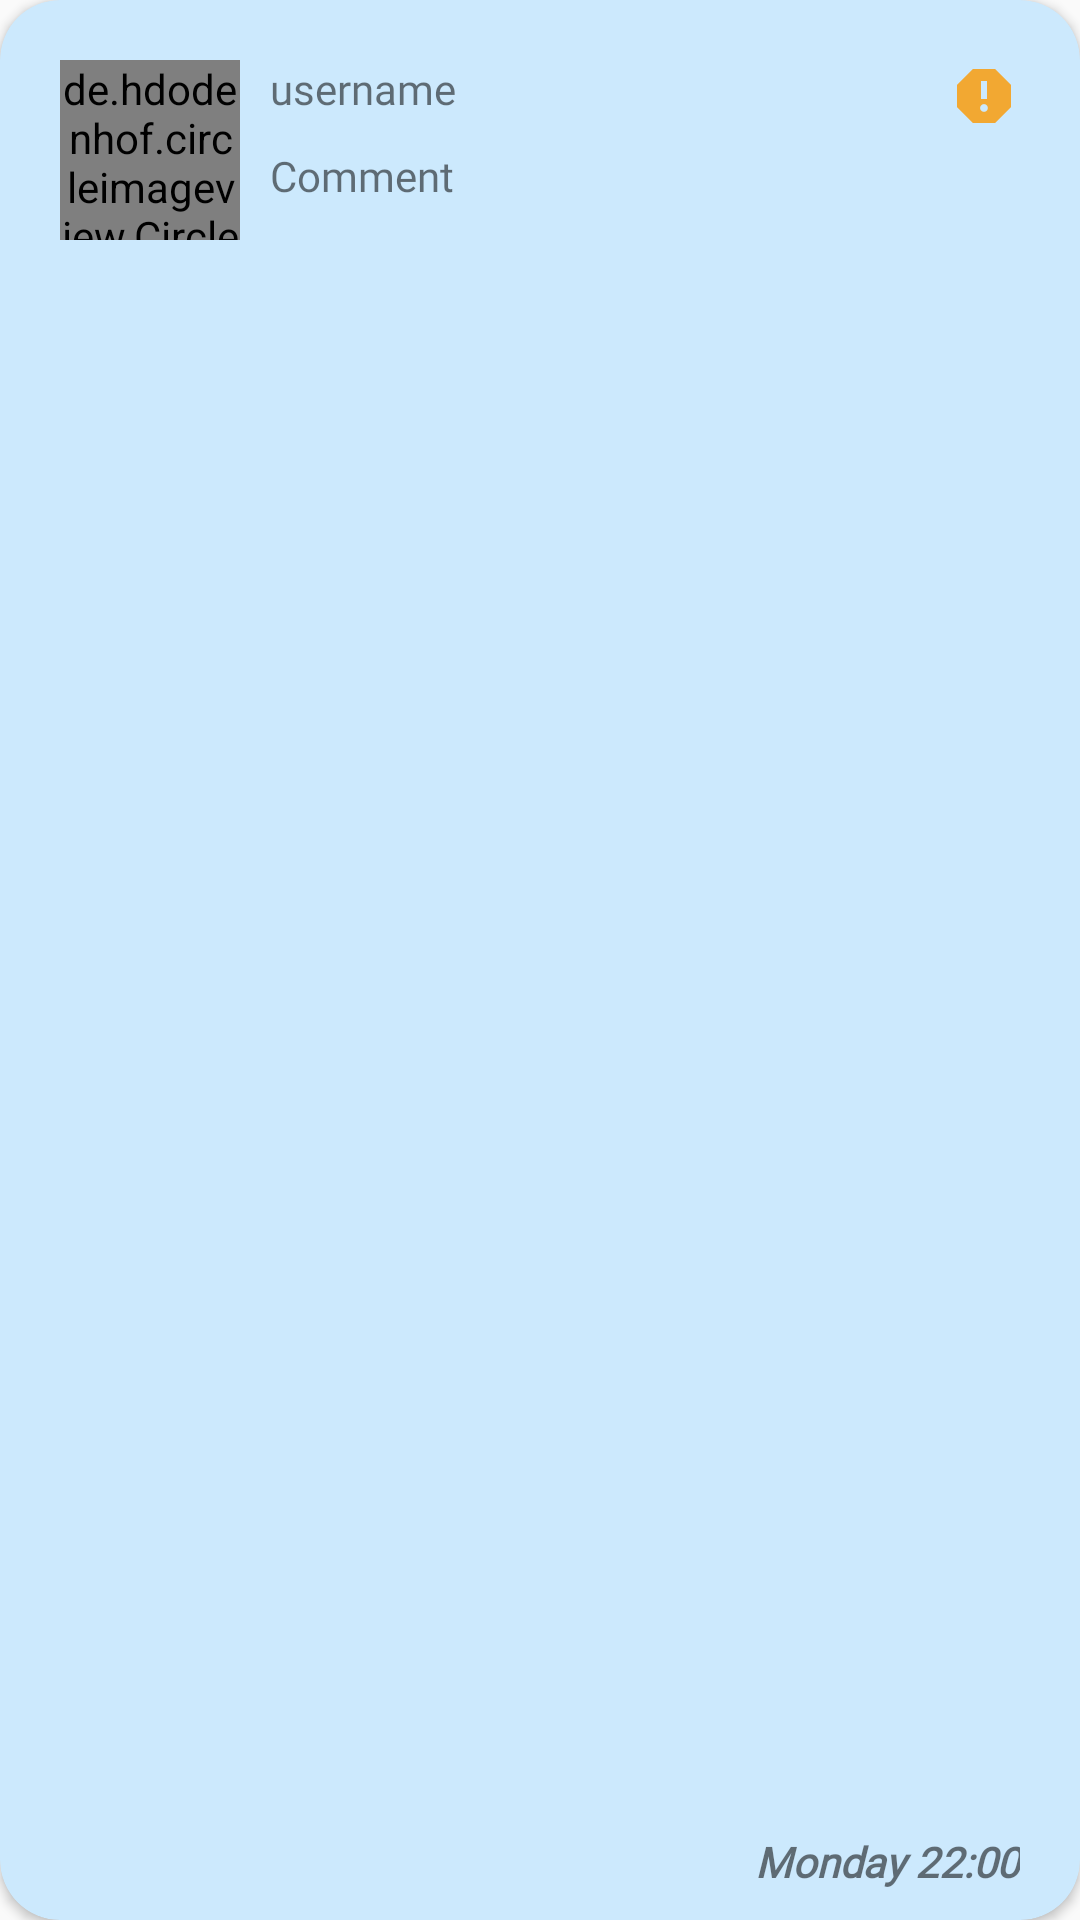

Named icons in this screenshot (1080 x 1920) and their centers, point (x, y):
report: point (984, 96)
